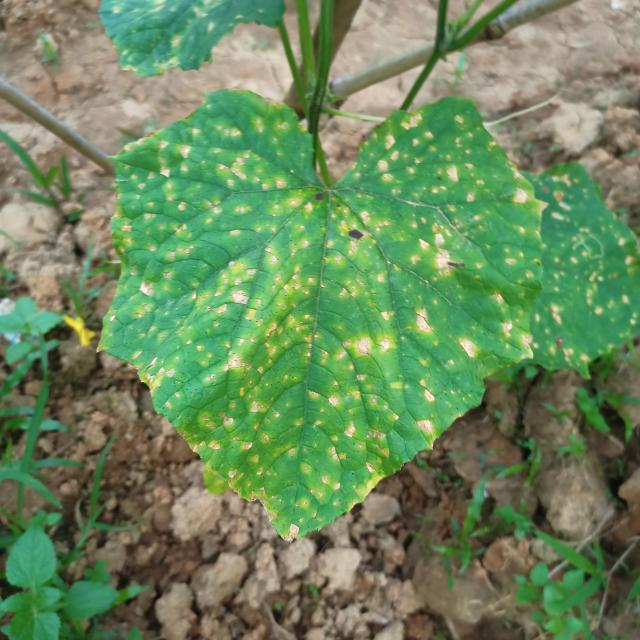disease_cucumber: (108, 103, 527, 522), (538, 172, 638, 358)
